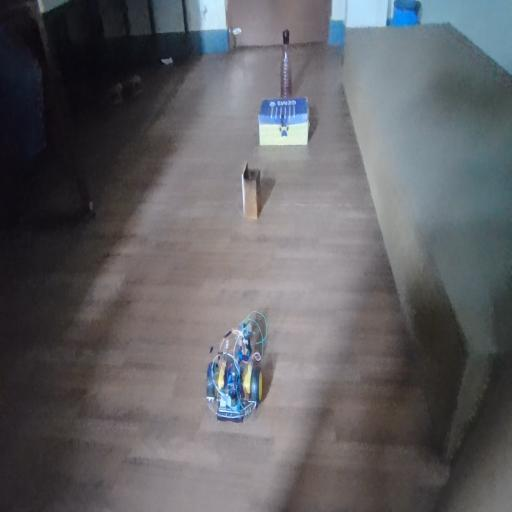Bottle: (277, 26, 309, 108)
car: (200, 297, 273, 431)
